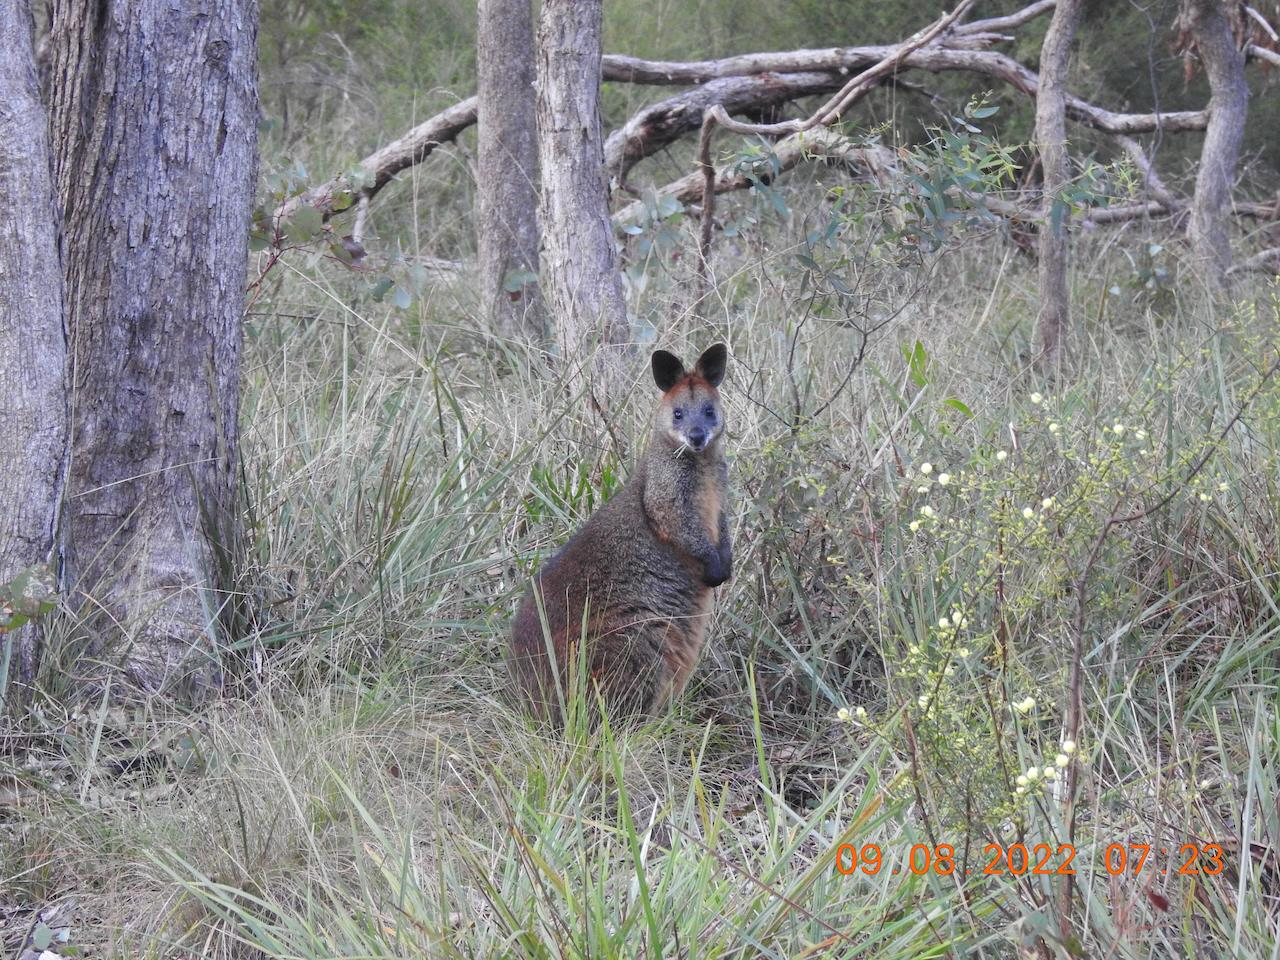Swamp wallaby: (503, 348, 736, 758)
